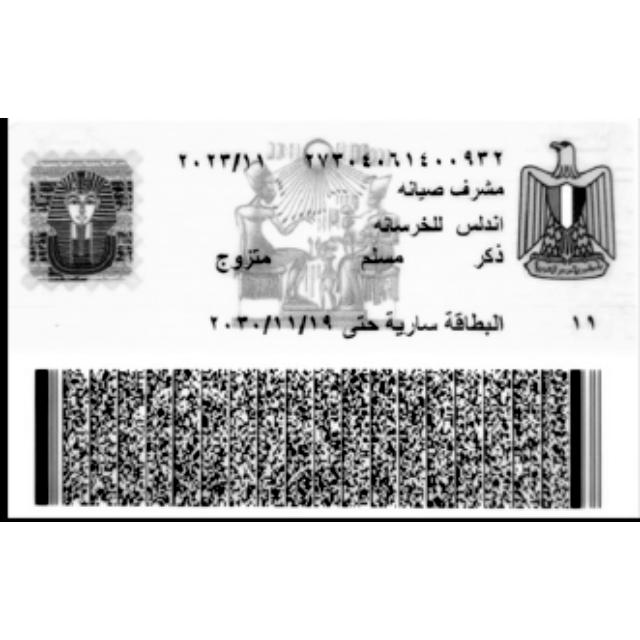back: (7, 122, 639, 520)
